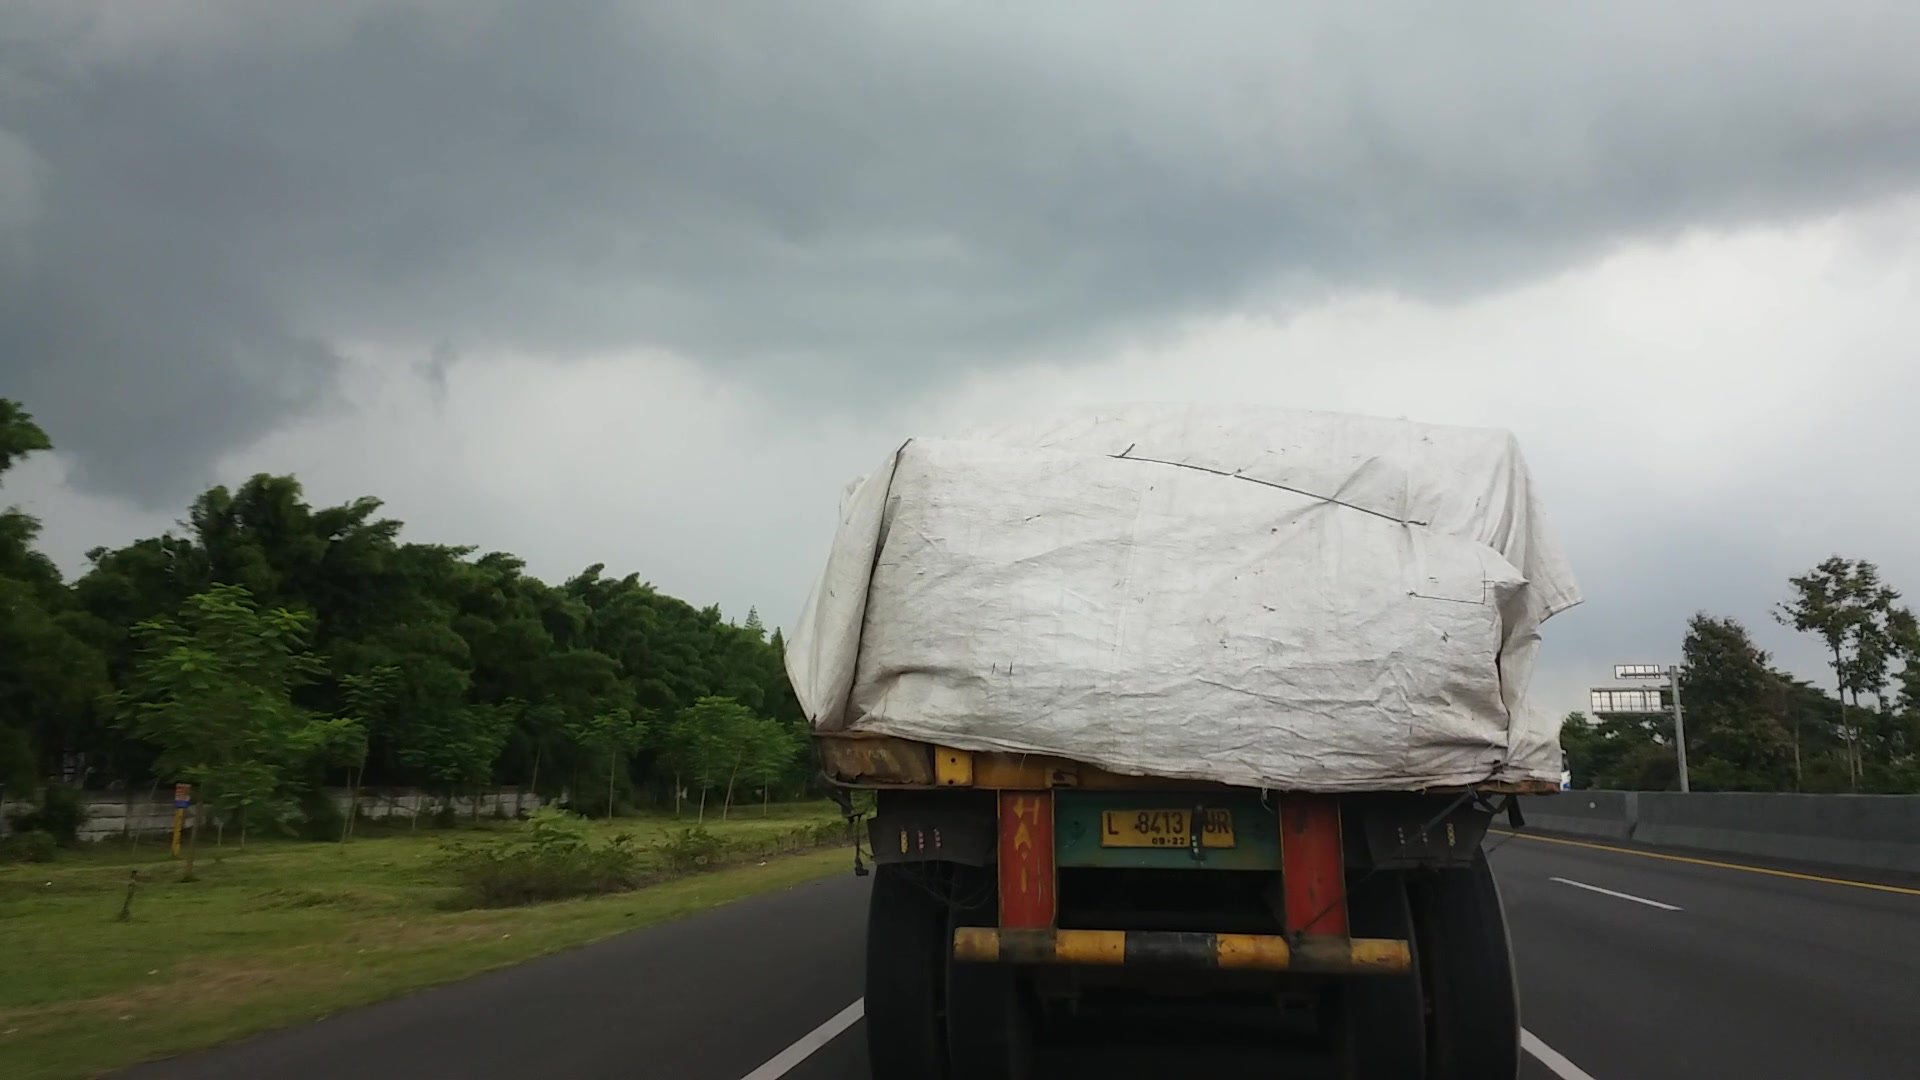plate_positive: (1101, 807, 1234, 849)
